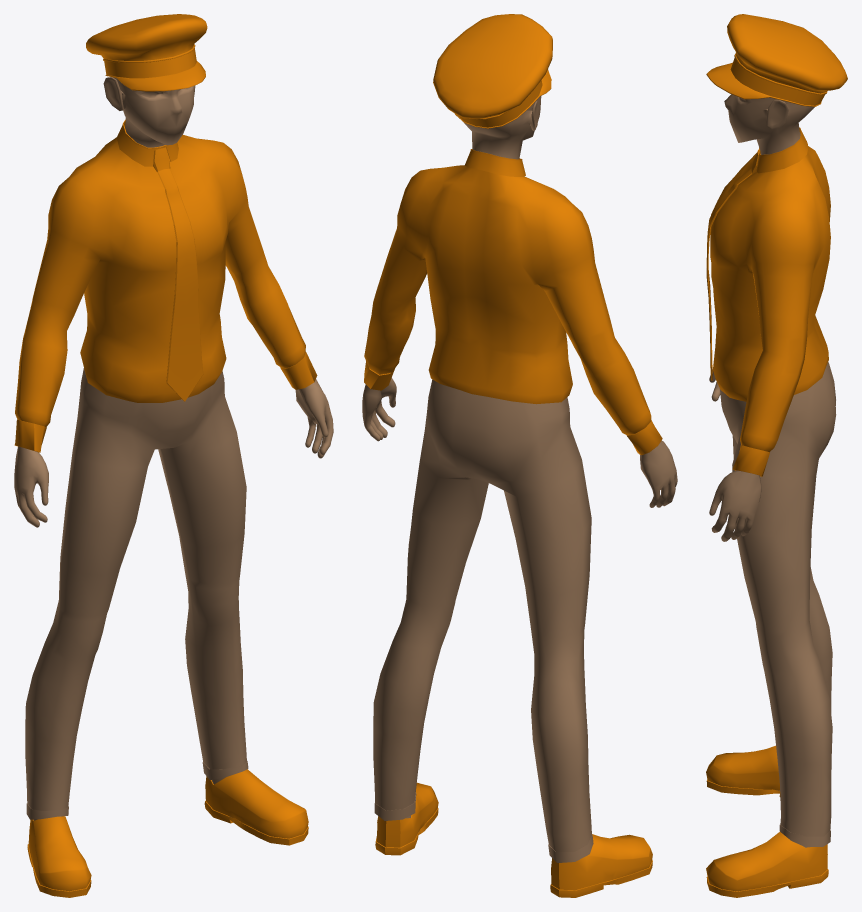
The model's file is GuardV3.FBX.
3 renders of one model, left to right at view 1: azimuth 30°, elevation 25°; view 2: azimuth 150°, elevation 25°; view 3: azimuth 270°, elevation 25°, orthographic. The views are drawn at different scales.
Visible parts, largest first — view 1: Character, shIRT, BOOT, hat, TIE; view 2: Character, shIRT, hat, BOOT; view 3: Character, shIRT, hat, BOOT, TIE.
Part boxes in pixels (x1=…): Character: x1=14, y1=77, x2=333, y2=820; shIRT: x1=14, y1=119, x2=317, y2=452; BOOT: x1=27, y1=769, x2=308, y2=897; hat: x1=86, y1=14, x2=207, y2=91; TIE: x1=153, y1=147, x2=203, y2=401; Character: x1=362, y1=96, x2=677, y2=862; shIRT: x1=364, y1=149, x2=662, y2=455; hat: x1=433, y1=14, x2=552, y2=128; BOOT: x1=375, y1=782, x2=652, y2=897; Character: x1=709, y1=94, x2=836, y2=847; shIRT: x1=710, y1=127, x2=830, y2=476; hat: x1=706, y1=14, x2=847, y2=106; BOOT: x1=706, y1=745, x2=828, y2=897; TIE: x1=706, y1=149, x2=758, y2=380.
Bounding box in the file's own units: 69.94 × 179 × 28.36.
